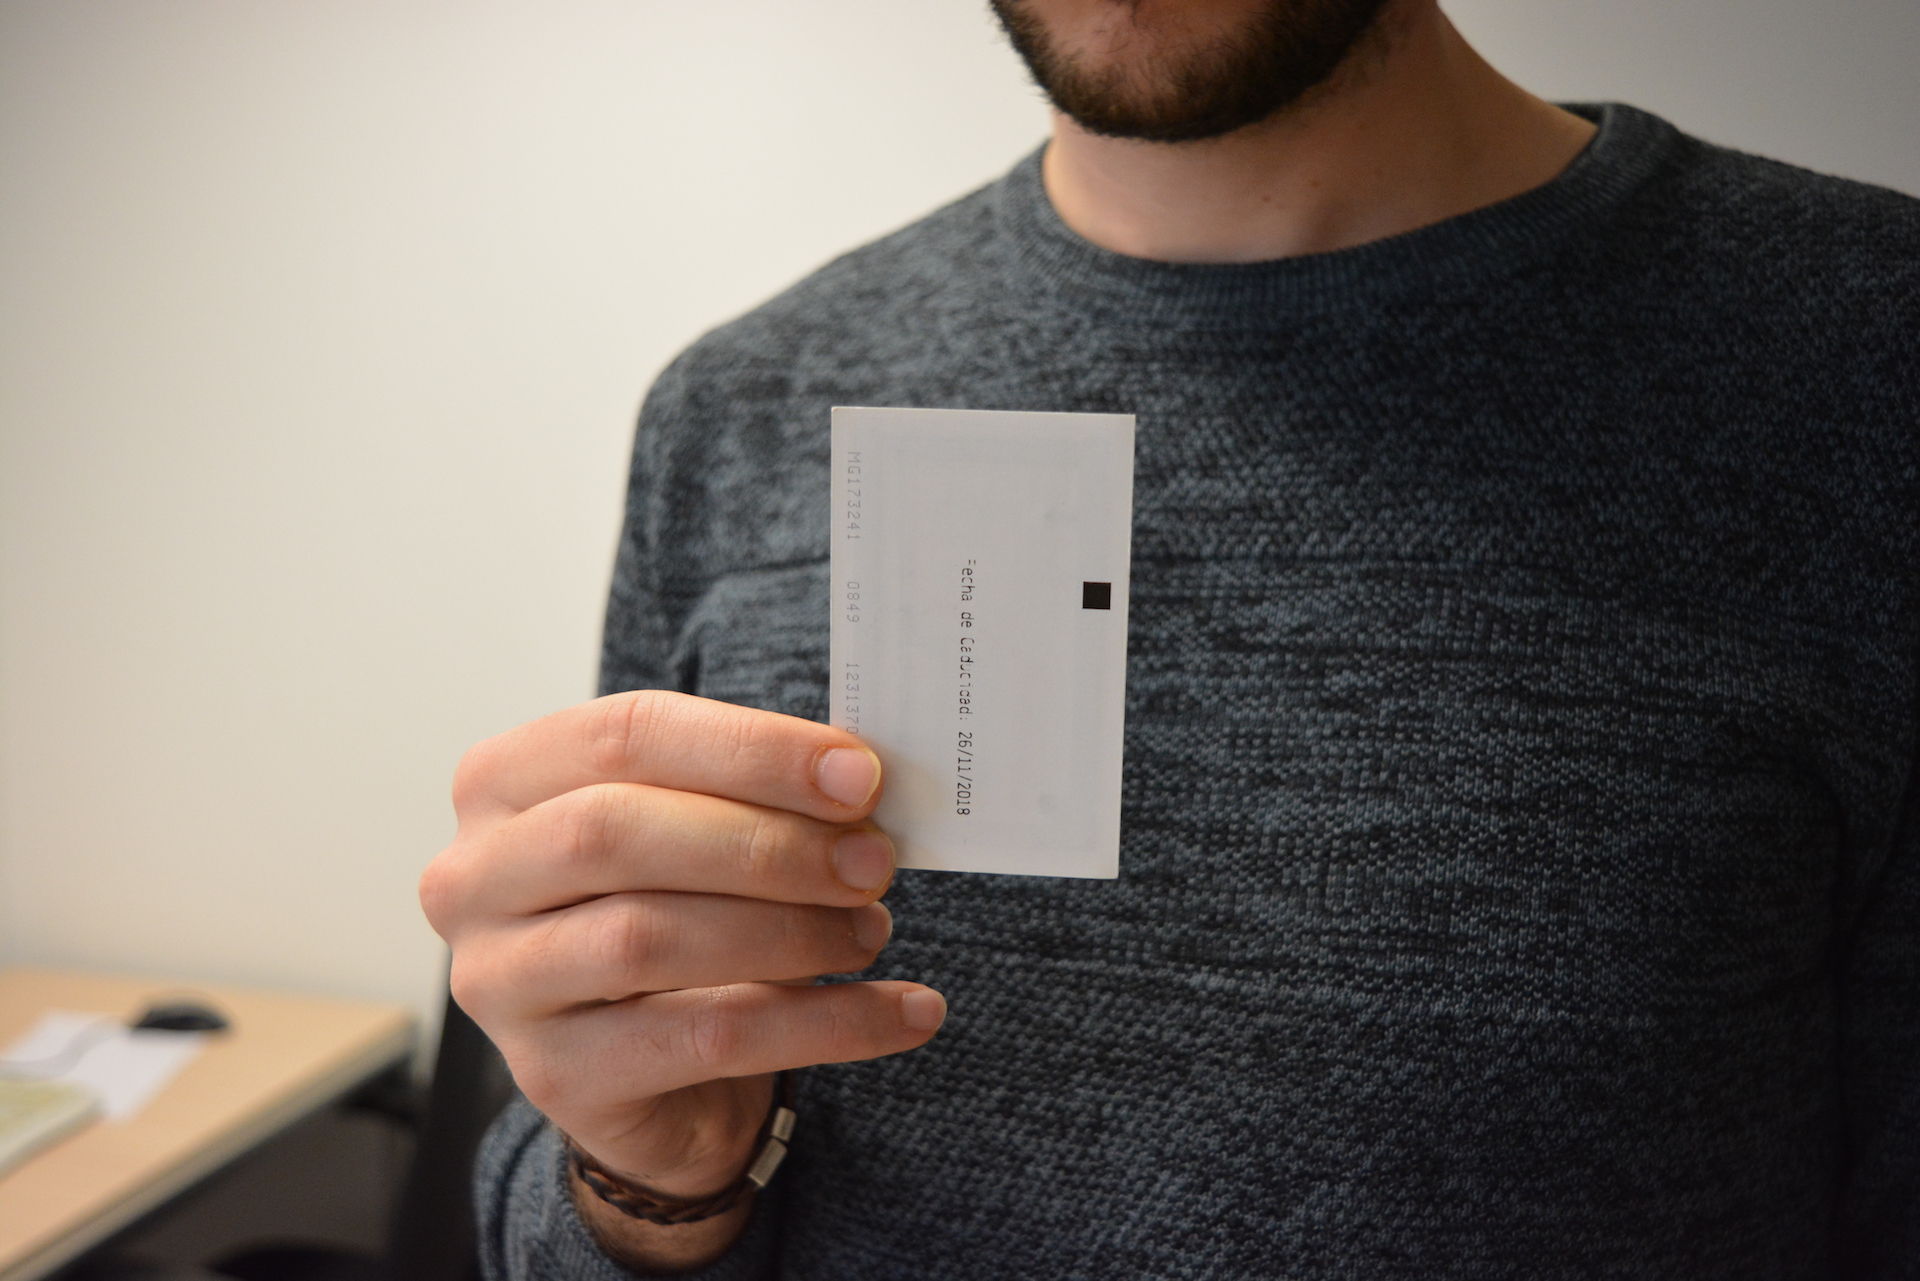tarjeta: (826, 402, 1139, 882)
